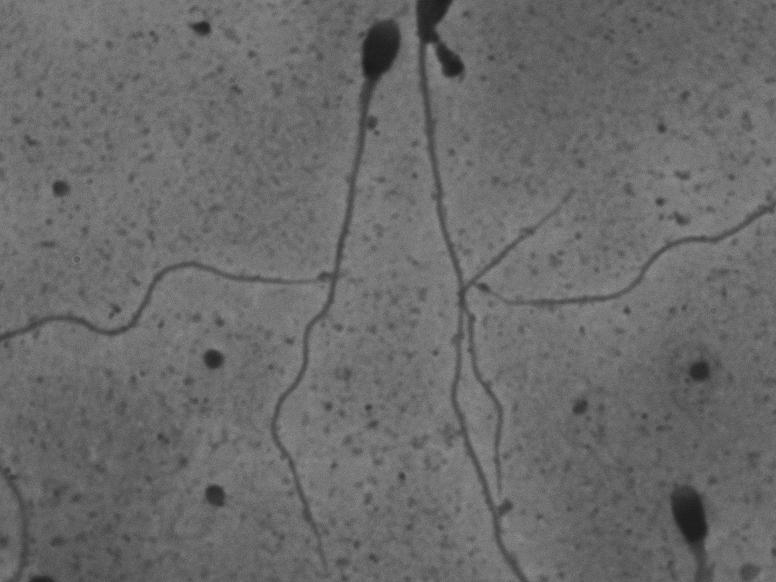Normal: (251, 5, 411, 570)
